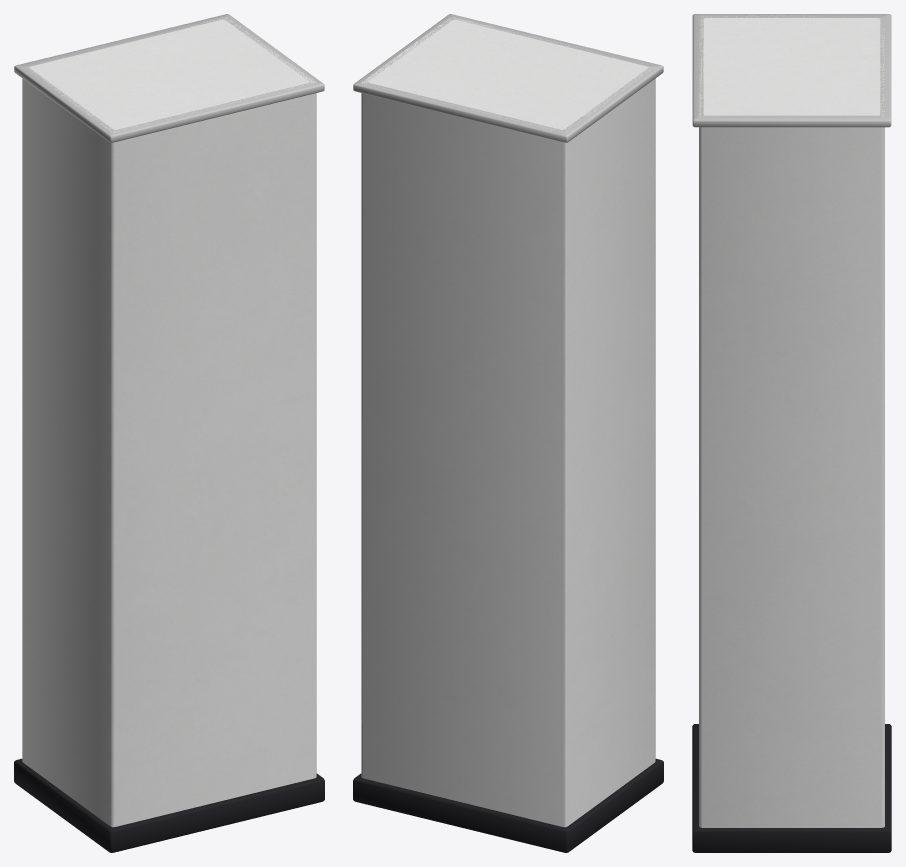
Rendered from Pillar_A.fbx.
3 views of the same model, side by side, from view 1: azimuth 30°, elevation 25°; view 2: azimuth 150°, elevation 25°; view 3: azimuth 270°, elevation 25° (orthographic). The views are drawn at different scales.
Visible parts, largest first — view 1: Pillar_A; view 2: Pillar_A; view 3: Pillar_A.
Part boxes in pixels (x1,y1,x2,y2): Pillar_A: (14, 14, 324, 852); Pillar_A: (353, 14, 663, 852); Pillar_A: (692, 14, 891, 852).
Bounding box in the file's own units: 1.57 × 5 × 1.23.
